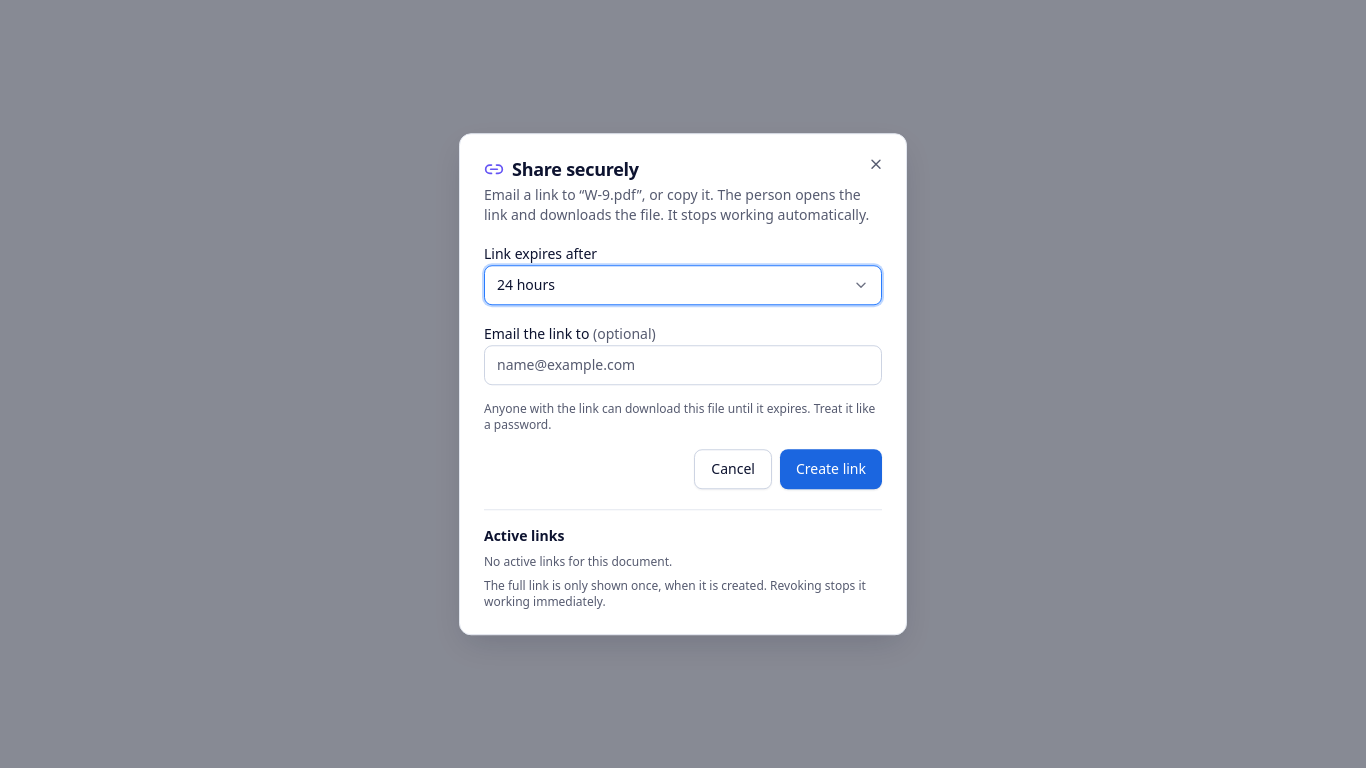
Test: ShareDialog: email the link › creates a plain link when no address is given
This screenshot has width=1366, height=768.
Click the button "Create link": (831, 469) [780,449,882,489]
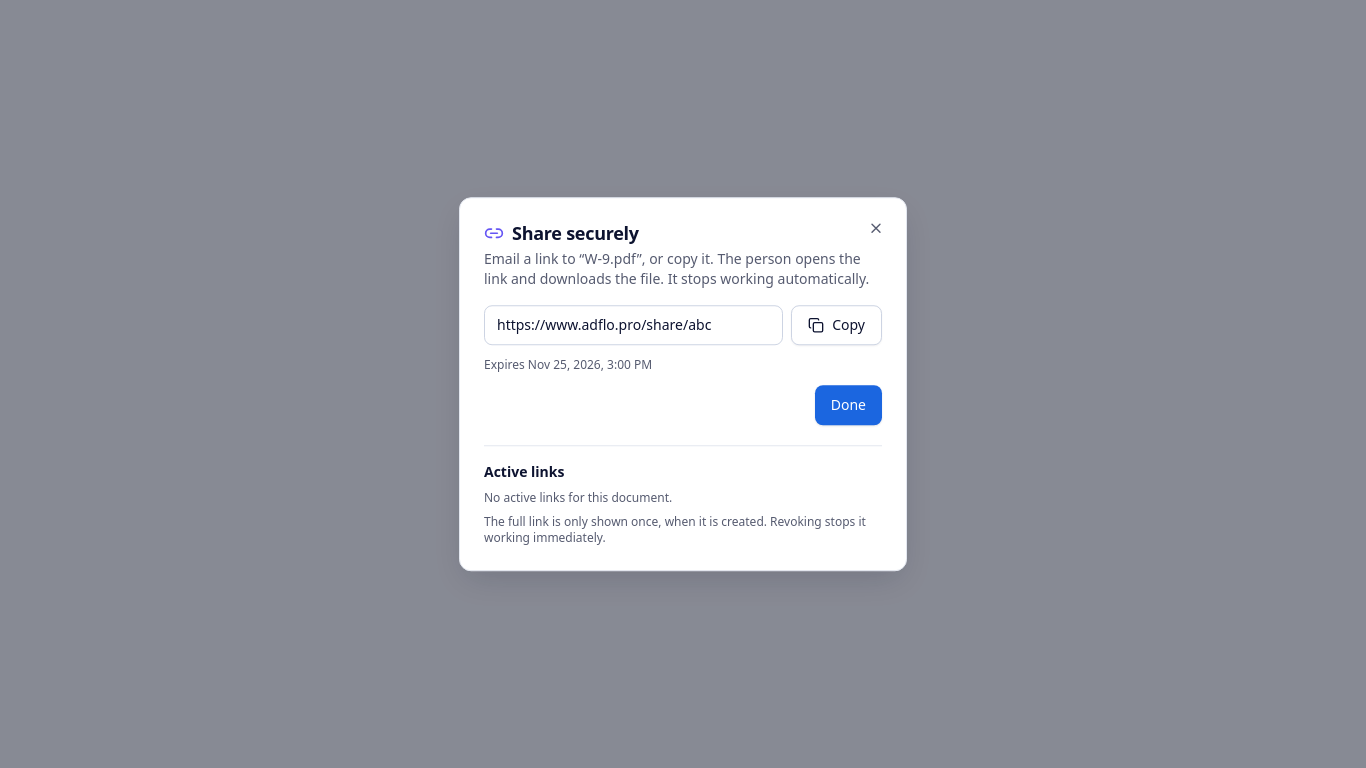
Expected: the field named "Share link" holds "https://www.adflo.pro/share/abc", [484,305,783,345]
